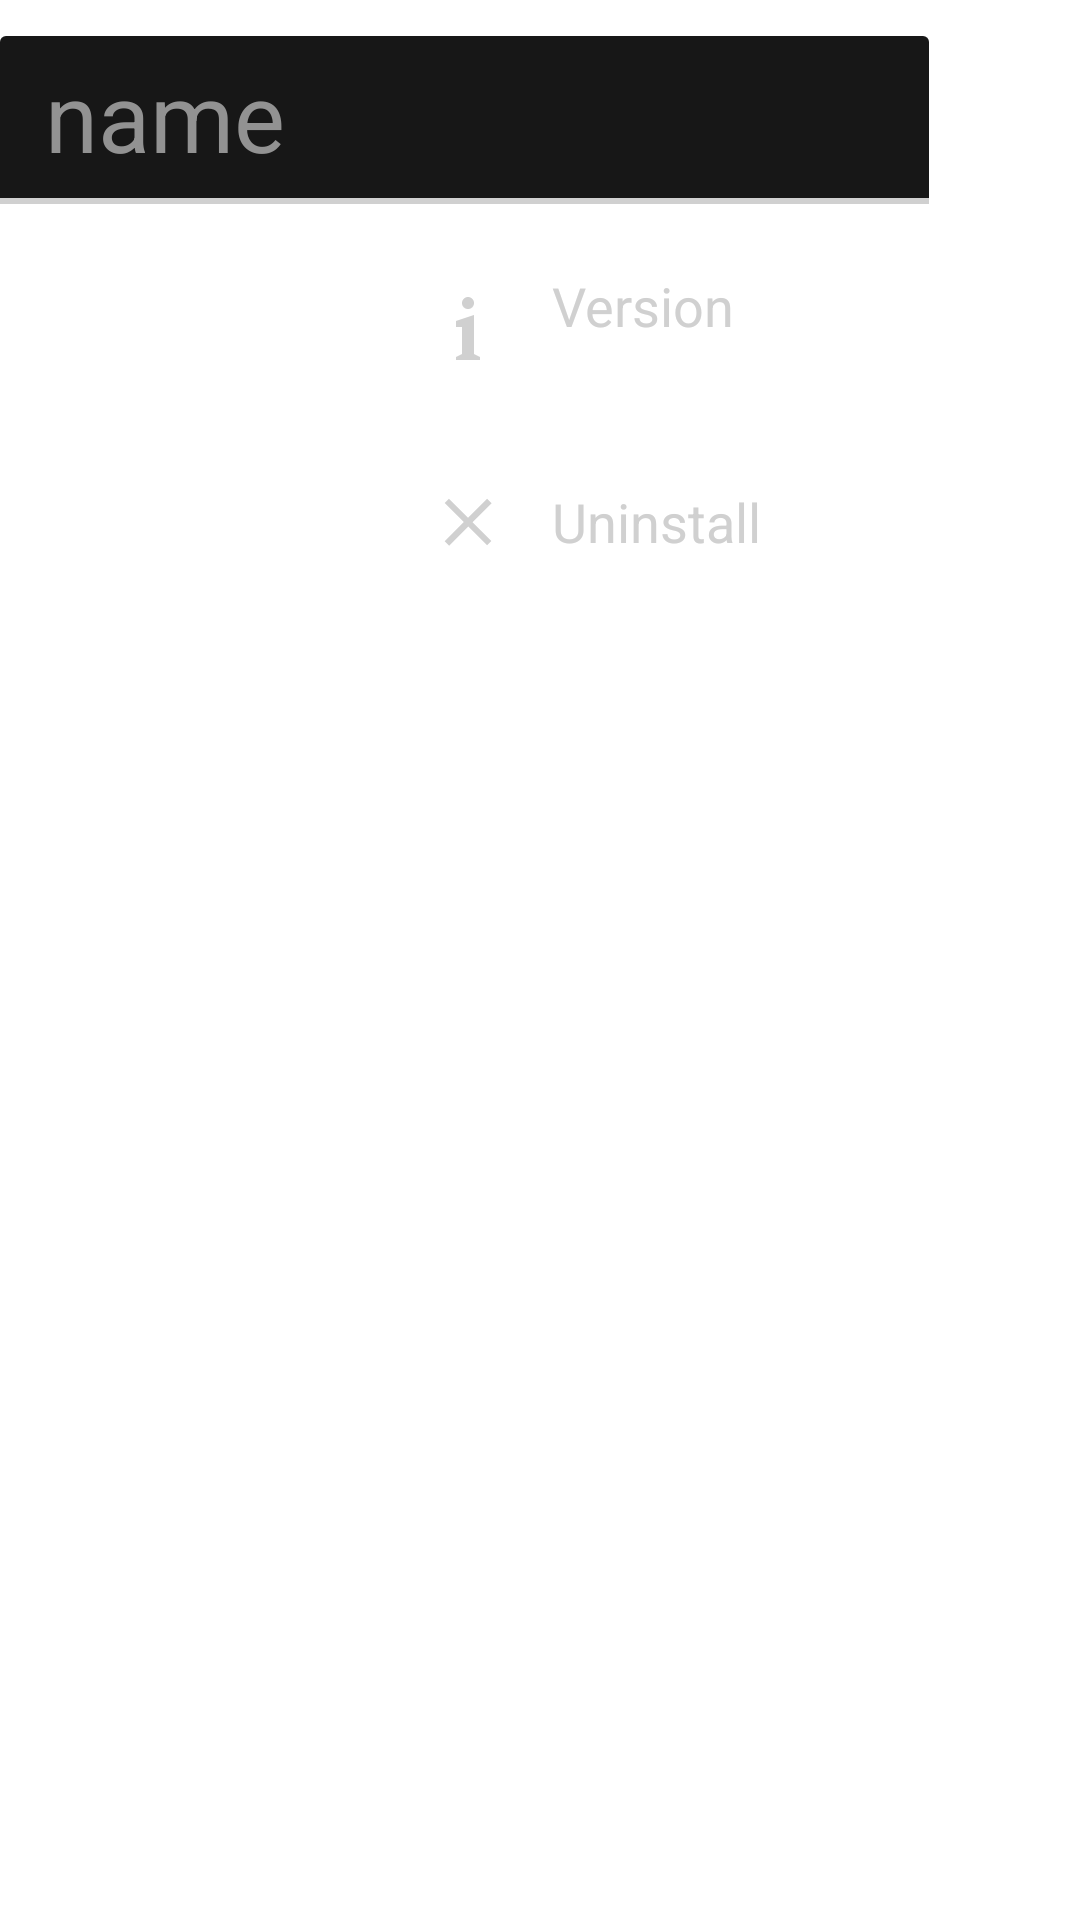

Icons on this 1080x1920 Android screen, each with its box as (left=x1, top=y1, right=x2, bottom=y2):
cross: (left=445, top=499, right=491, bottom=545)
info: (left=456, top=297, right=480, bottom=360)
